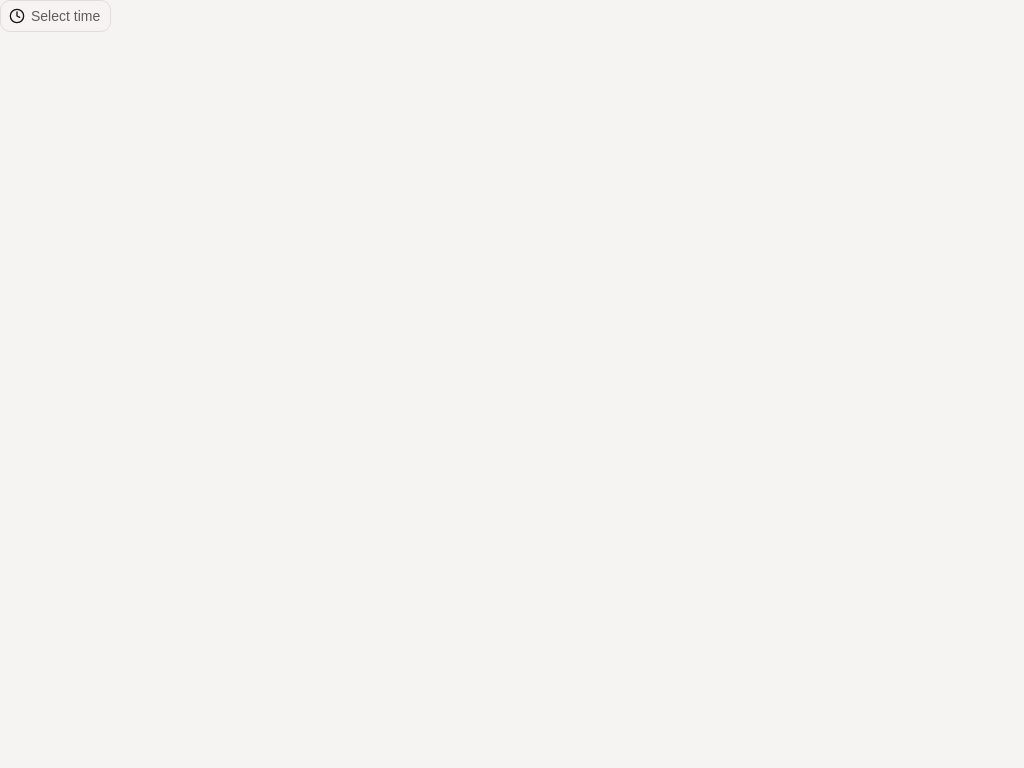
Test: TimePicker › uses custom column labels
Click the button at (56, 16), box [0,0,111,32]
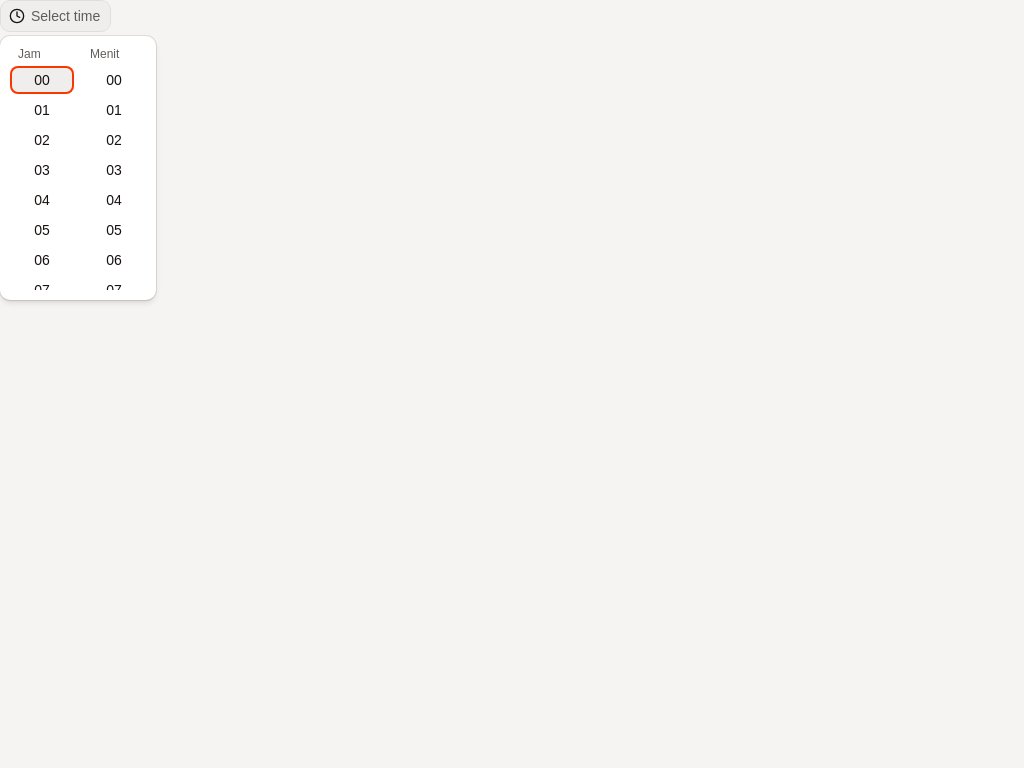
Expected: the list named "Jam" is shown, [10,66,74,290]
Expected: the list named "Menit" is shown, [106,72,122,298]
